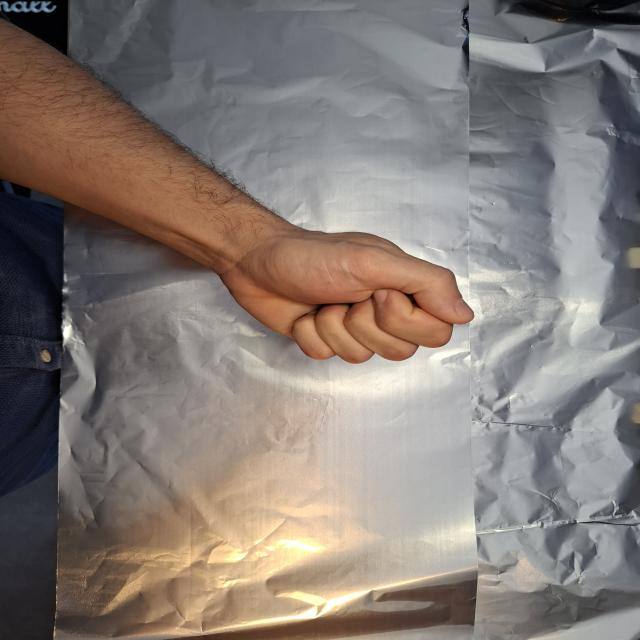glove_off: (208, 207, 477, 366)
